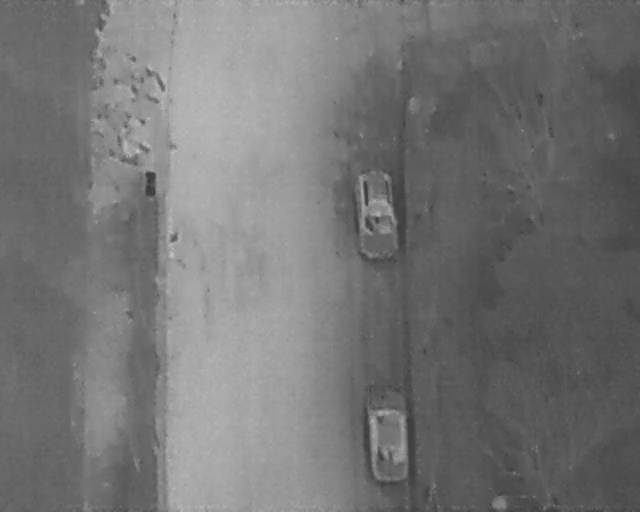Car: (362, 386, 414, 483), (352, 167, 401, 264)
